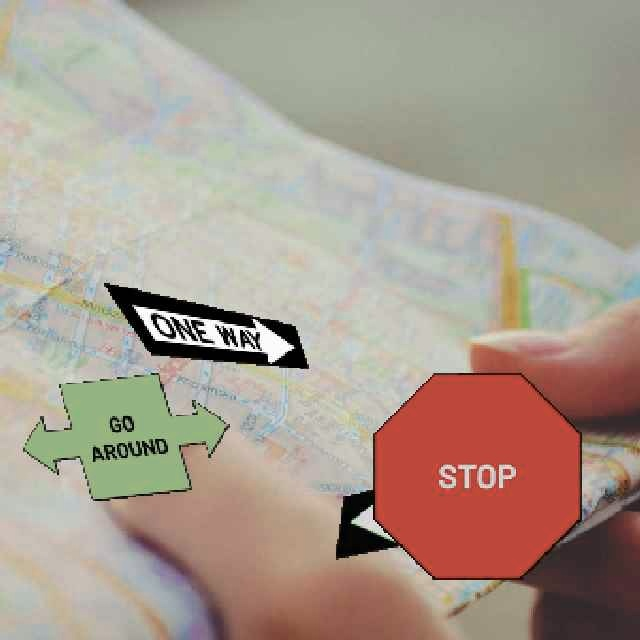GO_AROUND: (20, 371, 228, 500)
ONE_WAY_ left: (333, 456, 541, 558)
ONE_WAY_ right: (100, 280, 308, 368)
STOP: (372, 371, 580, 579)
